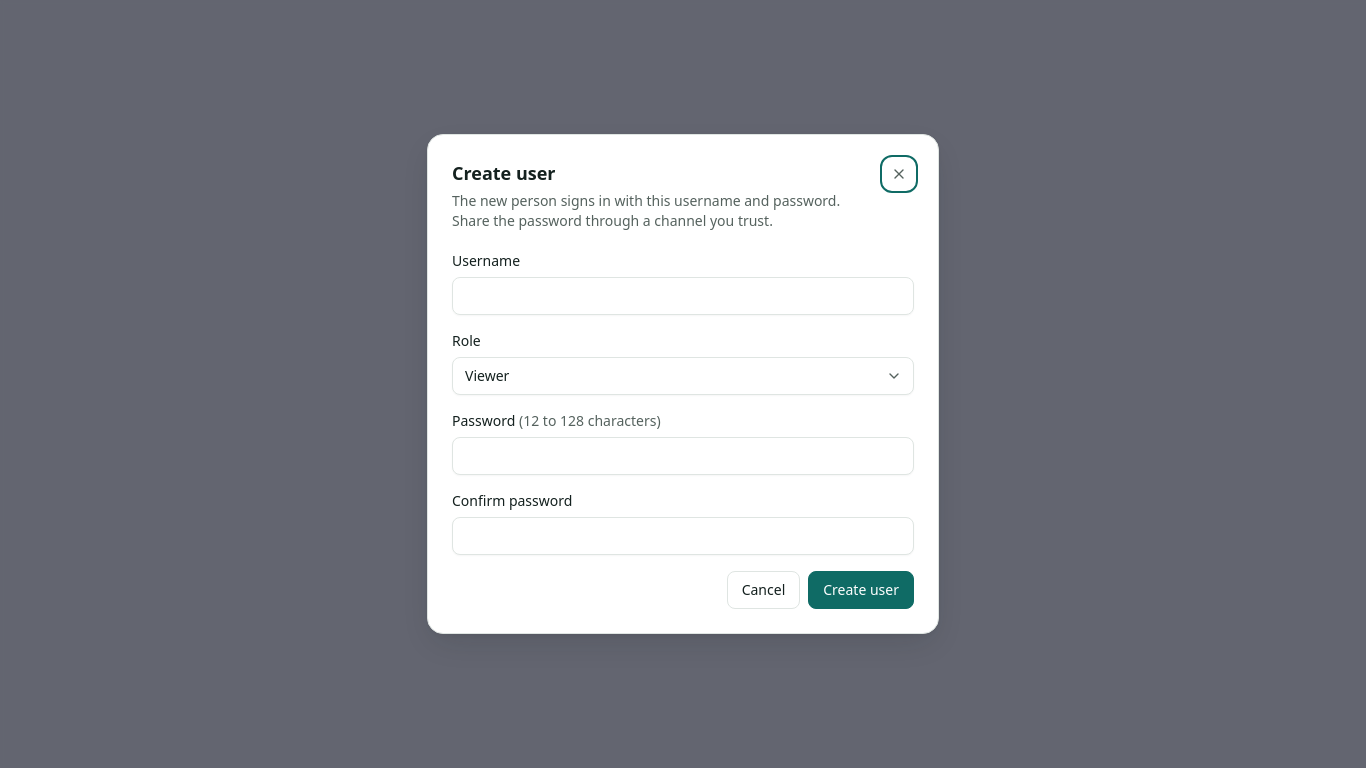
Test: CreateUserDialog › sends the trimmed, lower-case username with the chosen role
Step 1. Type "  Ops.Team  " into the field labelled "Username" → (683, 296), box [452, 277, 914, 315]
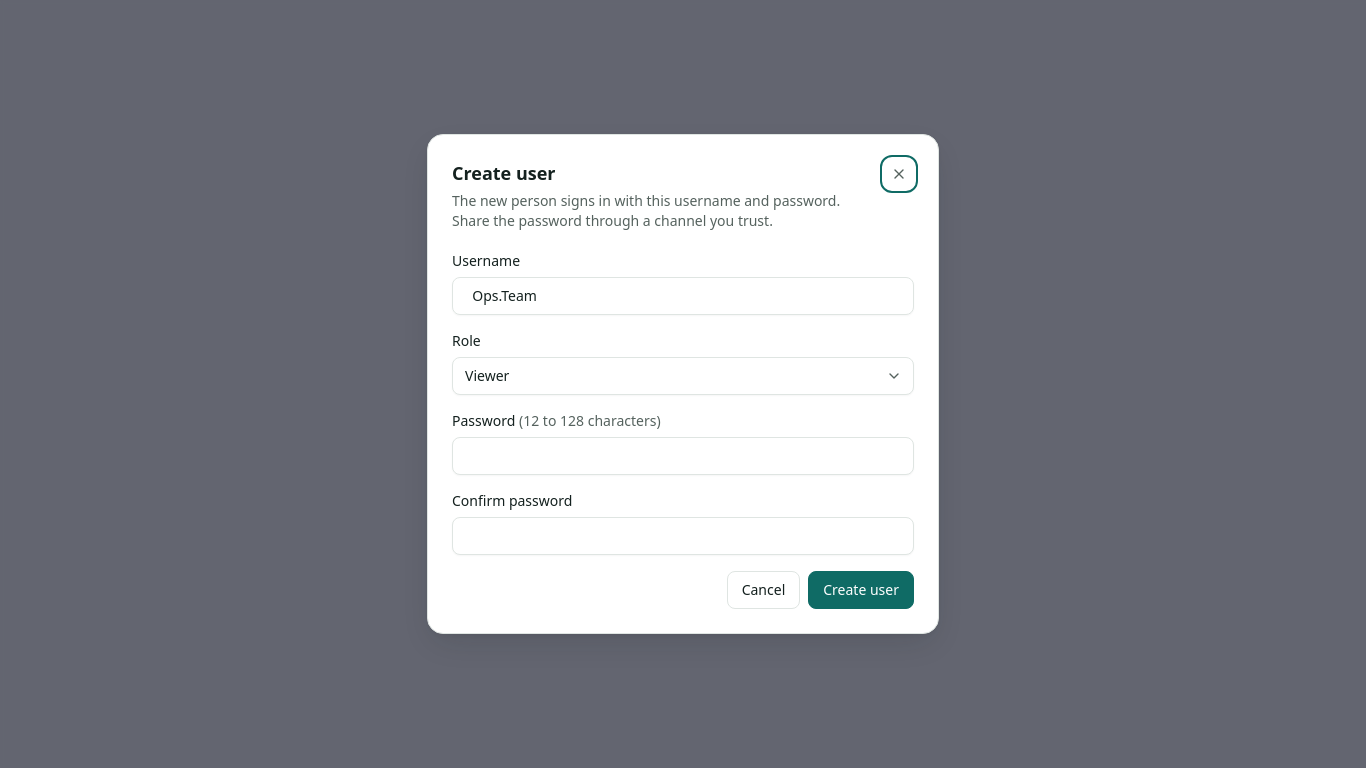
Step 2. Type "correct-horse-battery" into the password field labelled "Password (12 to 128 characters)" → (683, 456), box [452, 437, 914, 475]
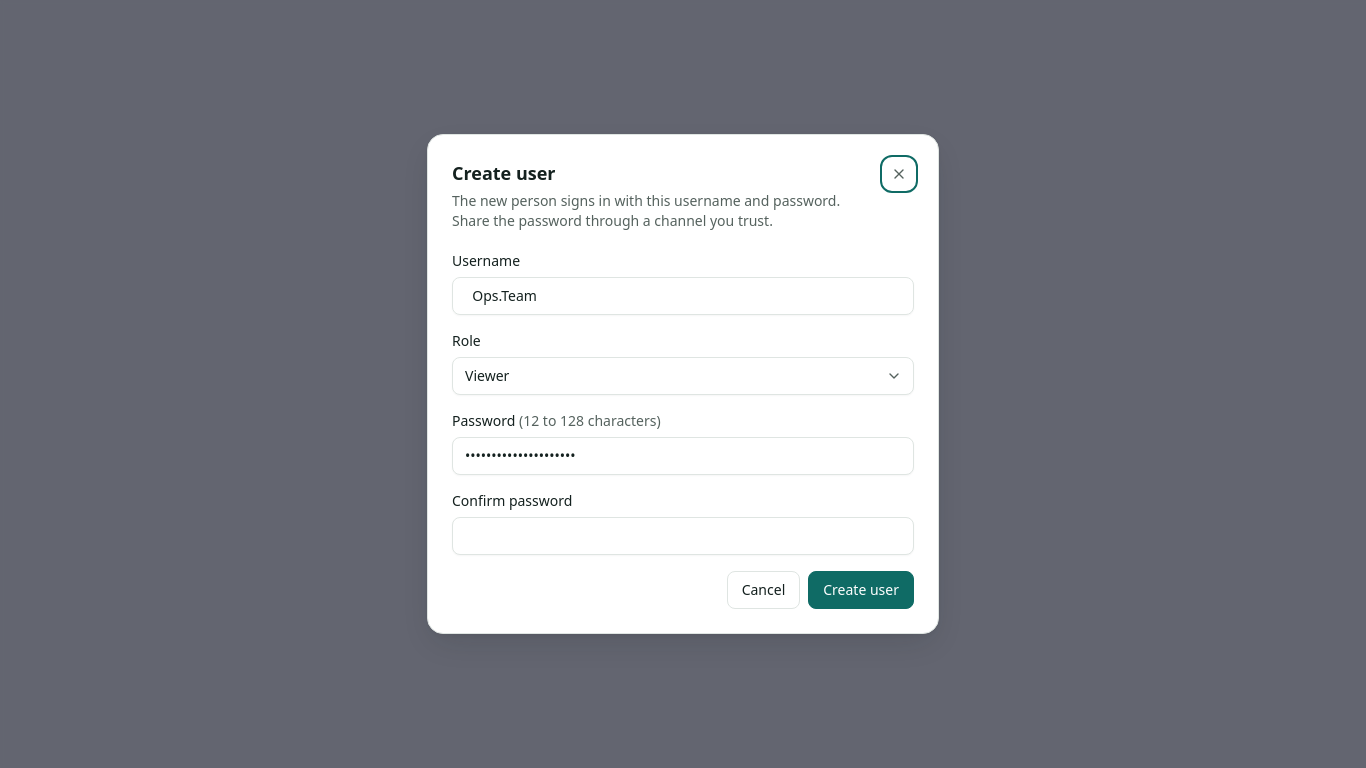
Step 3. Type "correct-horse-battery" into the password field labelled "Confirm password" → (683, 536), box [452, 517, 914, 555]
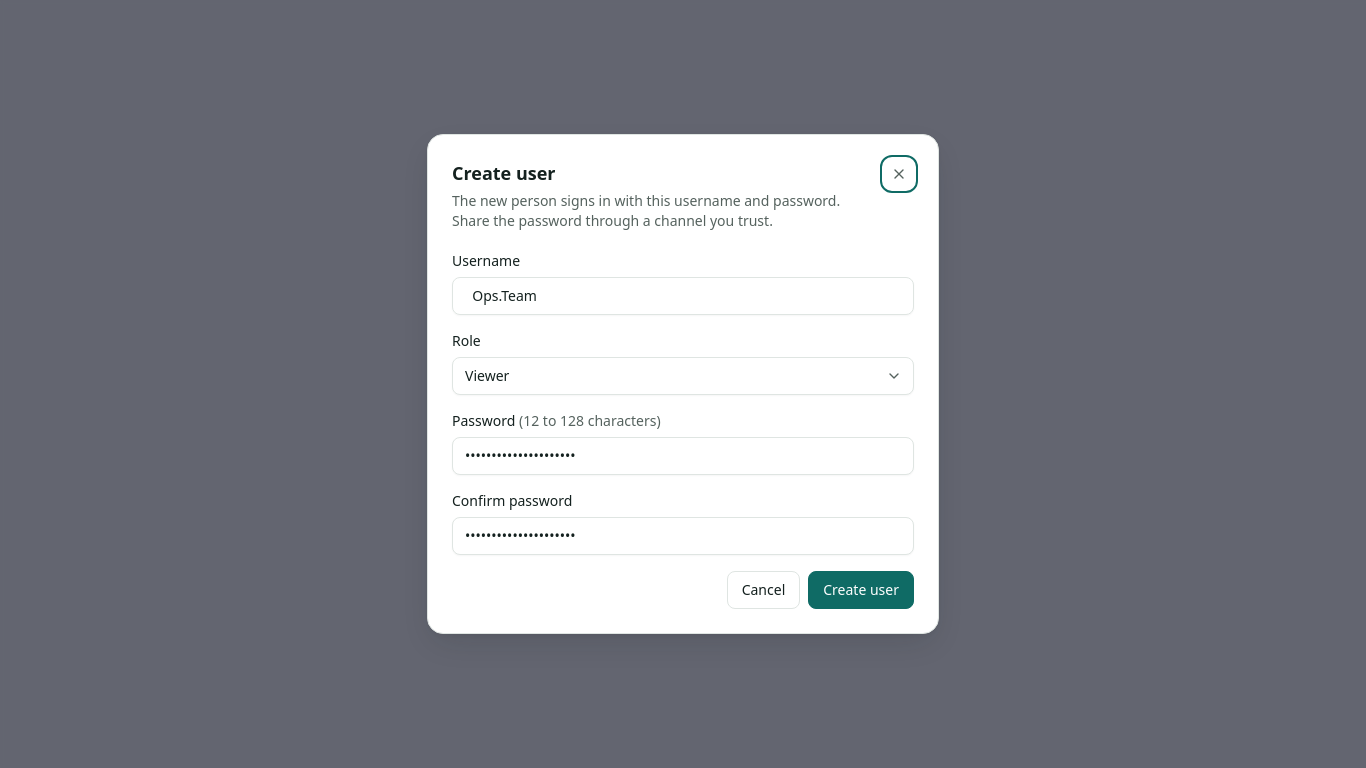
Step 4. Click the button "Create user" → (861, 590), box [808, 571, 914, 609]
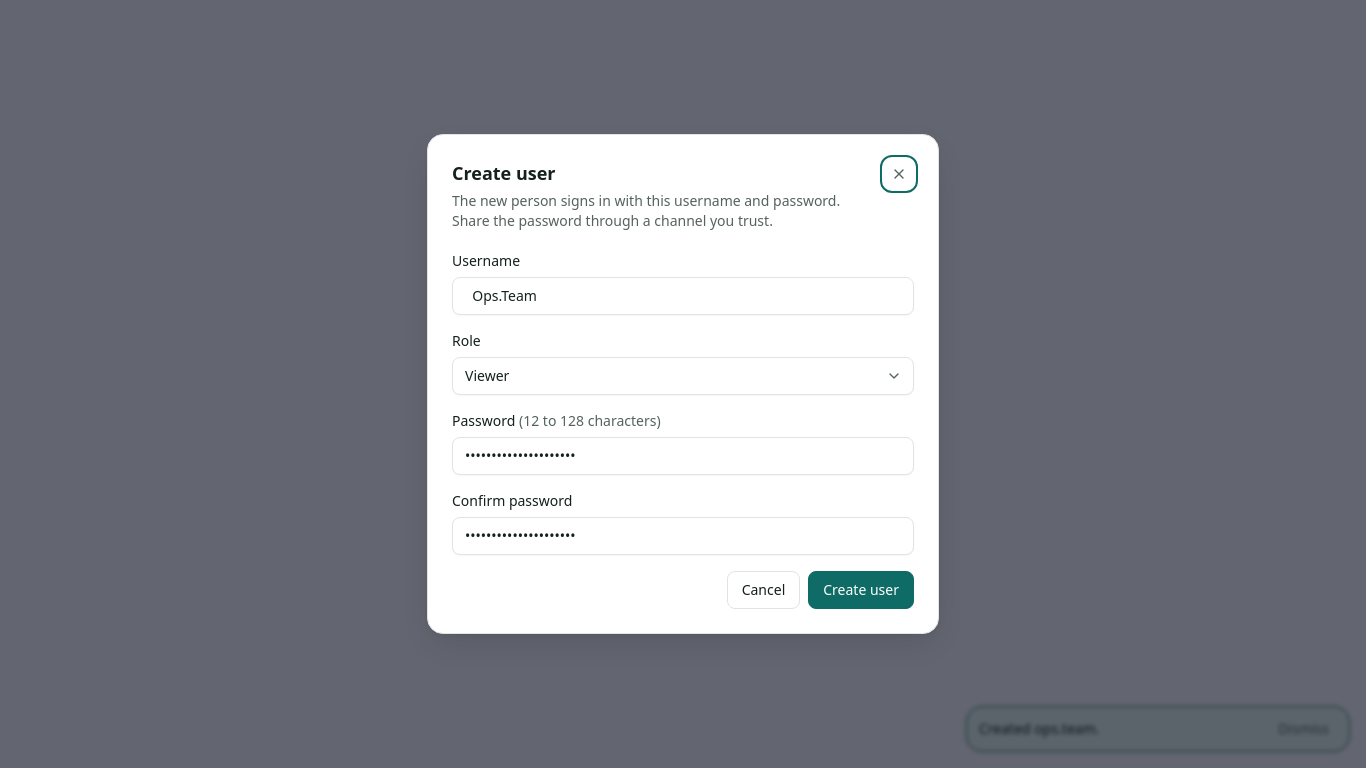
Result: the text "Created ops.team." is shown at [979, 719, 1100, 739]
